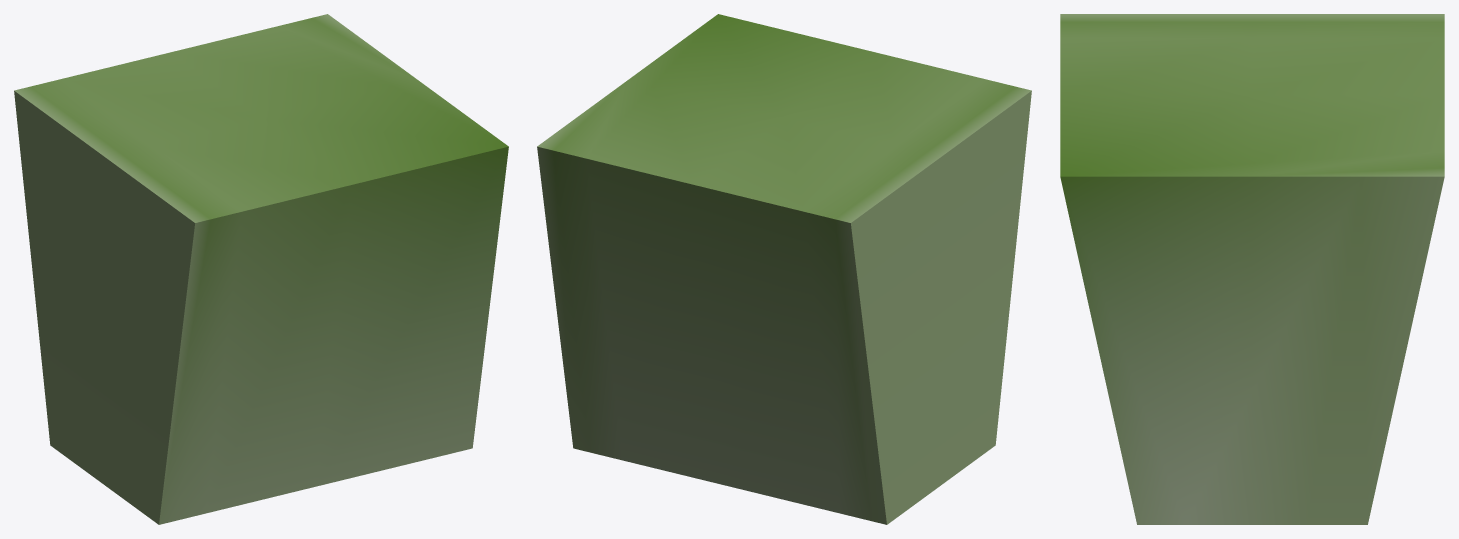
3 renders of one model, left to right at view 1: azimuth 30°, elevation 25°; view 2: azimuth 150°, elevation 25°; view 3: azimuth 270°, elevation 25°, orthographic. The views are drawn at different scales.
Parts seen in each view (by area): view 1: 3, 1, 4, 2; view 2: 4, 2, 3, 1; view 3: 1, 2, 4, 3.
Part boxes in pixels (x1,y1,x2,y2): 3: (104, 118, 351, 524); 1: (262, 80, 508, 486); 4: (14, 52, 260, 484); 2: (171, 14, 417, 118); 4: (694, 118, 941, 524); 2: (537, 80, 783, 486); 3: (785, 52, 1031, 484); 1: (628, 14, 874, 118); 1: (1060, 95, 1252, 524); 2: (1252, 95, 1444, 524); 4: (1252, 14, 1444, 95); 3: (1060, 14, 1252, 95).
Bounding box in the file's own units: 200 × 200 × 200.
